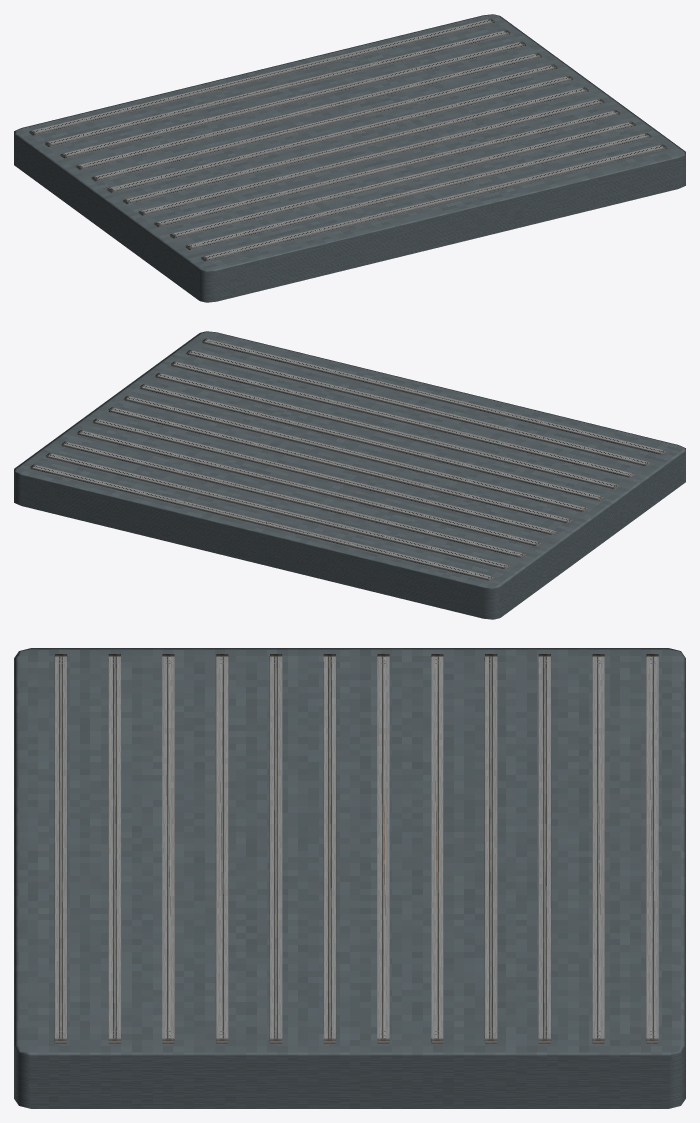
File: dock-plate.glb
The picture shows the model from 3 angles, top to bottom: view 1: azimuth 30°, elevation 25°; view 2: azimuth 150°, elevation 25°; view 3: azimuth 270°, elevation 25°; orthographic projection. The views are drawn at different scales.
Parts seen in each view (by area): view 1: plate, rib (×12); view 2: plate, rib (×12); view 3: plate, rib (×12).
Part boxes in pixels (x1,y1,x2,y2): plate: (14,14,685,302); rib (×12): (29,18,666,261); plate: (14,331,685,619); rib (×12): (29,338,666,581); plate: (14,648,685,1108); rib (×12): (54,654,658,1044).
Bounding box in the file's own units: 1.25 × 0.0837 × 0.87.
2 materials, 2 textured.
